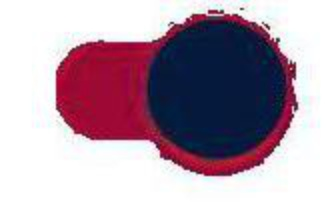Switch: (1, 1, 331, 203)
